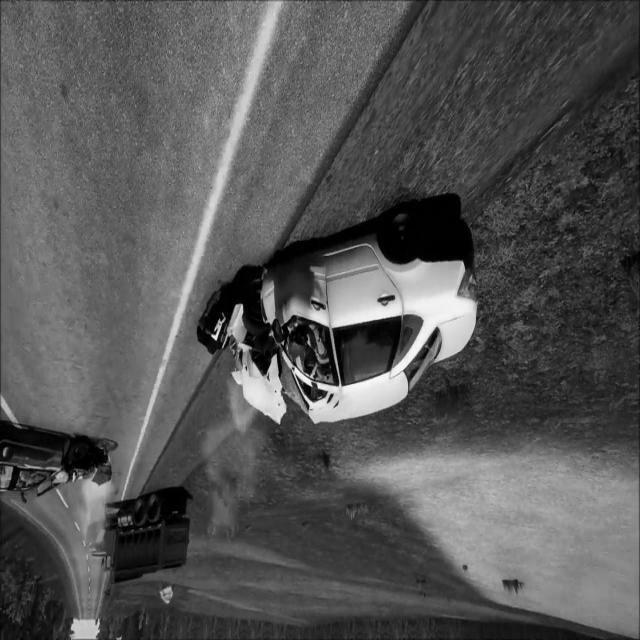severe: (195, 200, 480, 431), (1, 414, 114, 524)
